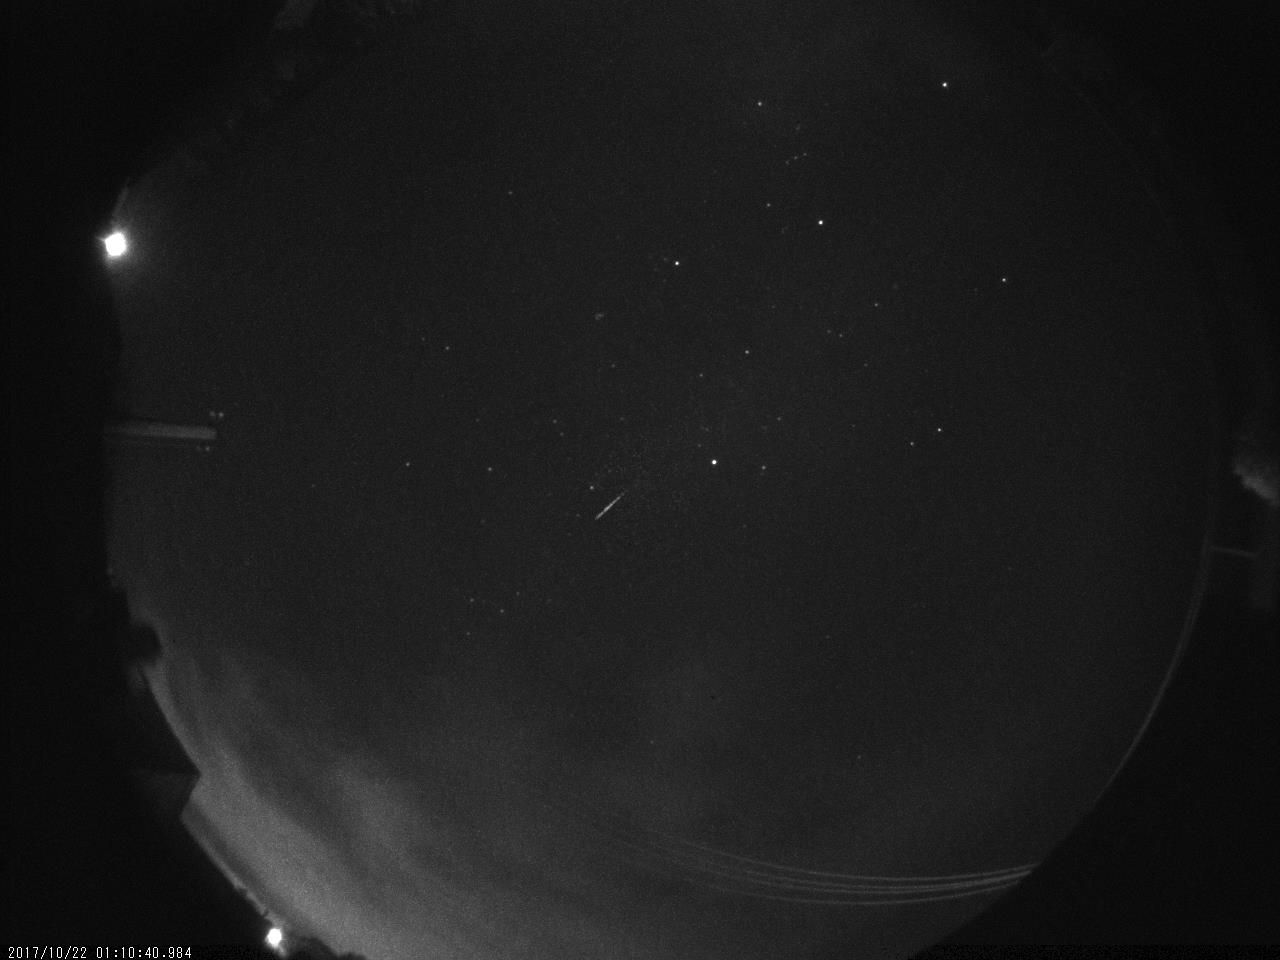meteor: (589, 493, 627, 530)
